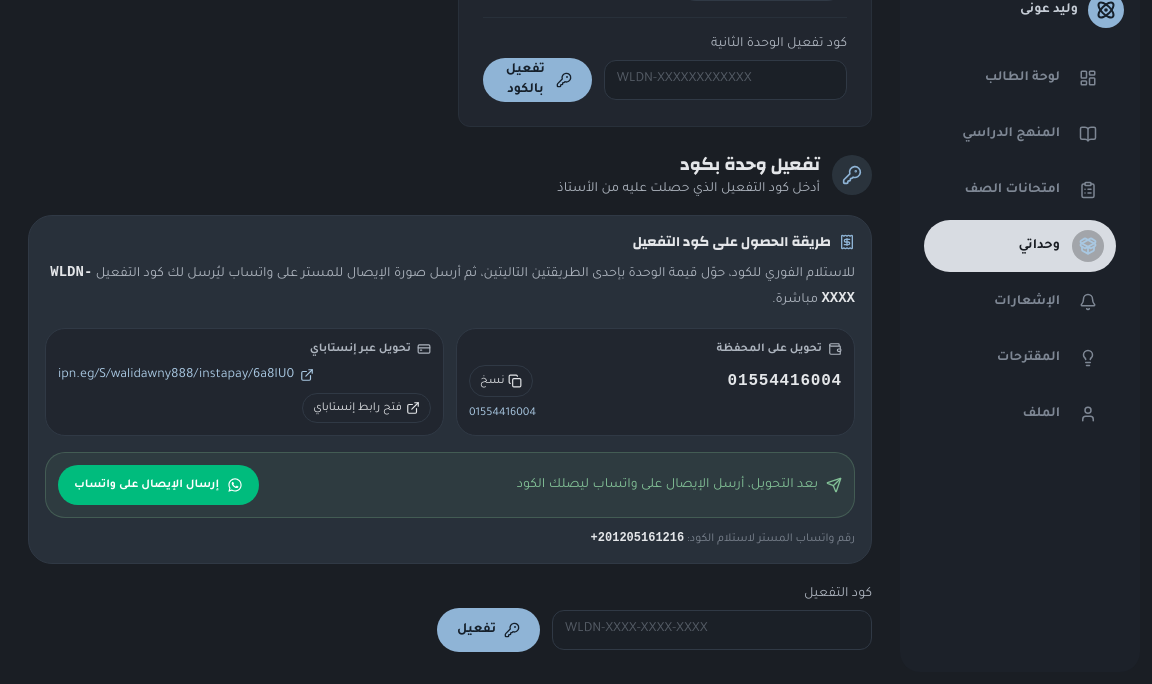
Test: UnitsPage › shows a clear error when redeeming an invalid code
(page scrolled)
Type "WLDN-BAD-CODE-0000" into the field labelled "كود التفعيل". click: (712, 630)
box: [552,610,872,650]
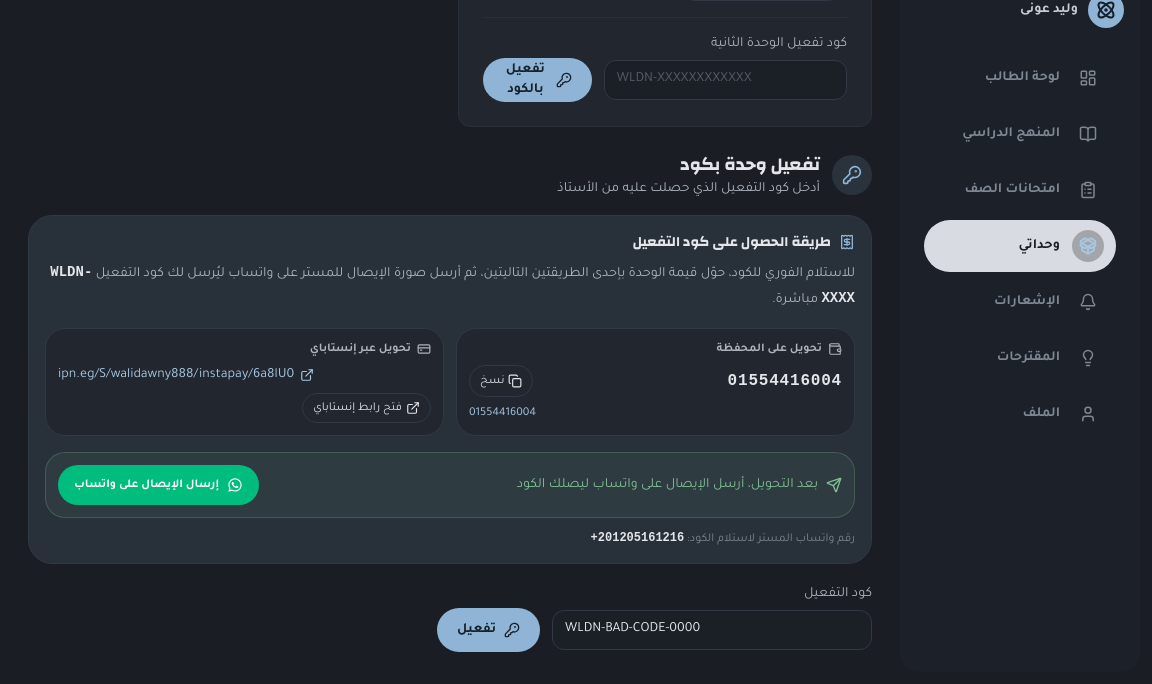
Click the button "تفعيل". click: (488, 630)
box: [437,608,540,652]
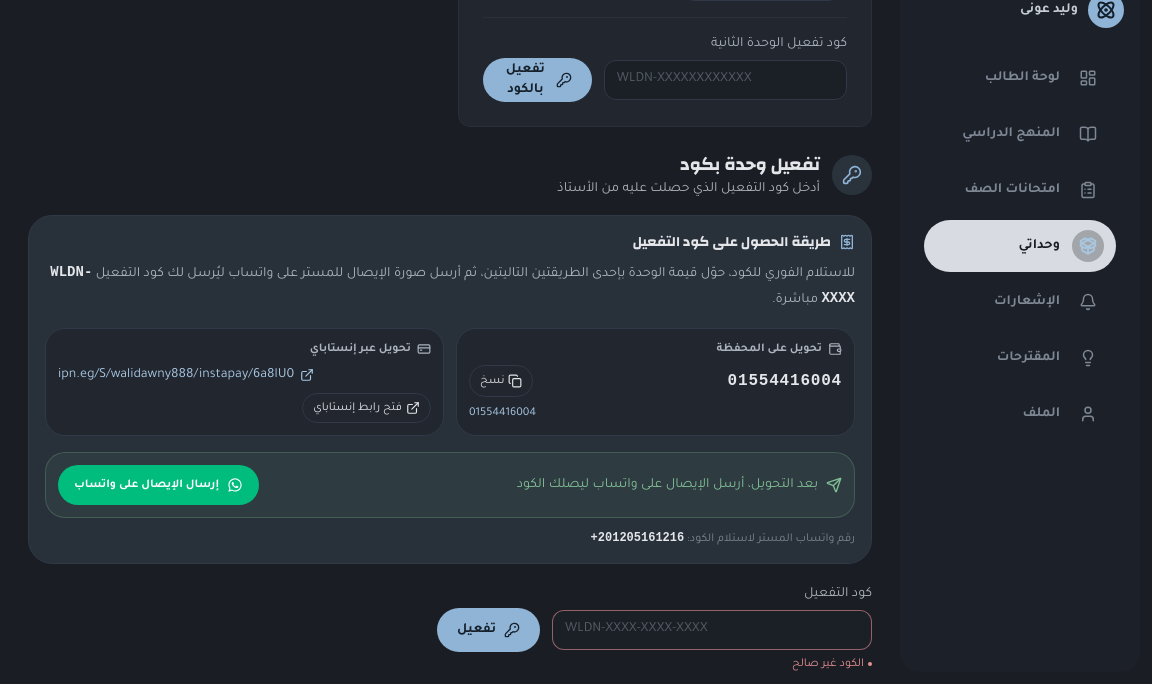
expect the text "الكود غير صالح" is shown: met, box [792,658,872,670]
